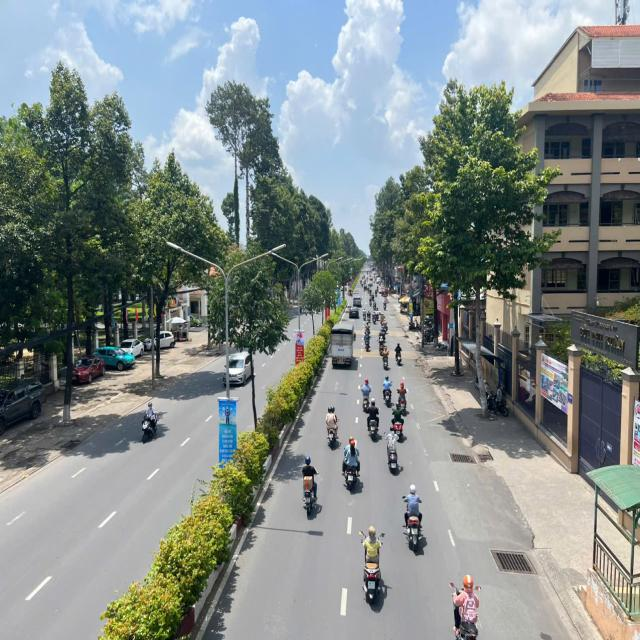ben: (329, 318, 358, 370)
car: (220, 340, 261, 390)
motobyte: (357, 514, 391, 610), (448, 568, 488, 640), (293, 446, 325, 528), (401, 478, 432, 556), (341, 429, 364, 494), (323, 397, 340, 457), (384, 425, 402, 481), (365, 391, 382, 442)
